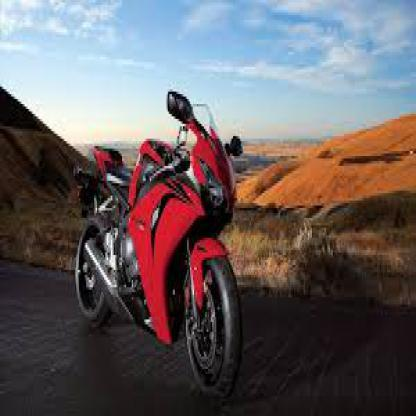Motorcycle: (70, 90, 248, 404)
